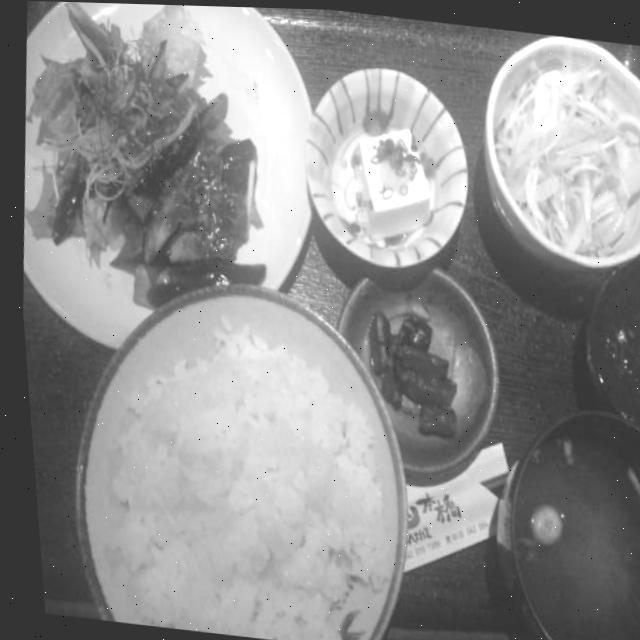米饭主食: (59, 300, 406, 640)
蔬菜料理: (464, 28, 640, 250)
豆腐料理: (320, 95, 451, 267)
鸡蛋料理: (11, 0, 304, 318)
